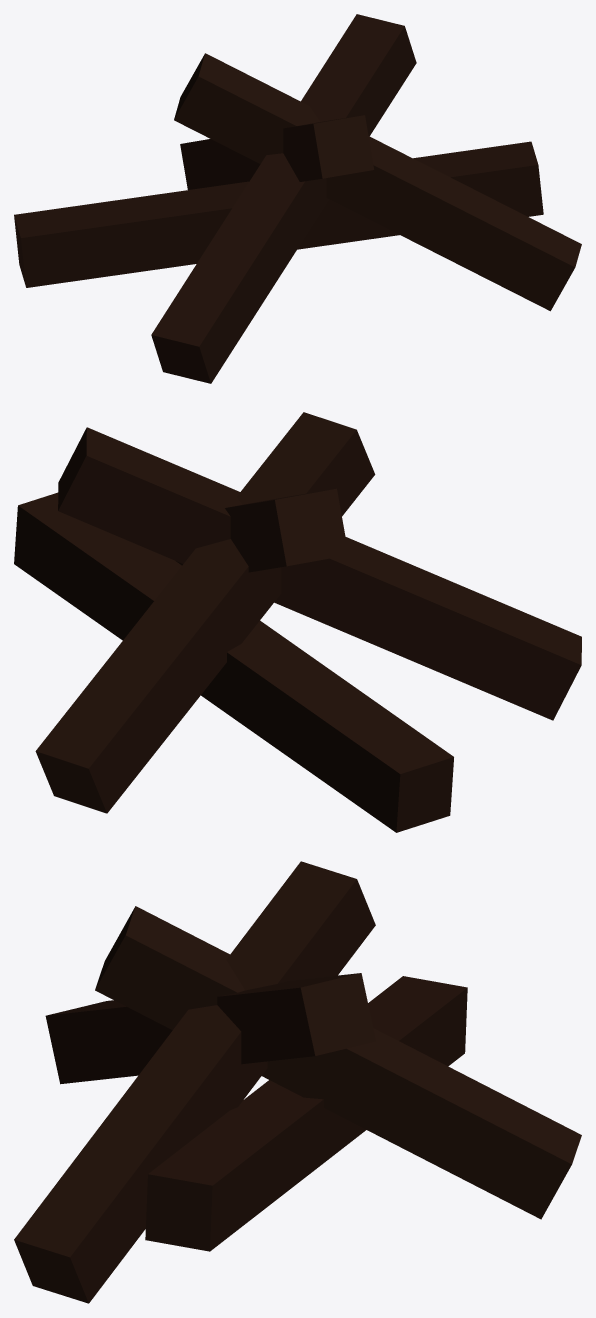
Rendered from campfireLogs.glb.
The picture shows the model from 3 angles, top to bottom: view 1: azimuth 30°, elevation 25°; view 2: azimuth 150°, elevation 25°; view 3: azimuth 270°, elevation 25°; orthographic projection. The views are drawn at different scales.
Visible parts, largest first — view 1: campfireLog01, campfireLog00, campfireLog03, campfireLog02; view 2: campfireLog00, campfireLog03, campfireLog02, campfireLog01; view 3: campfireLog01, campfireLog02, campfireLog03, campfireLog00.
Part boxes in pixels (left/top/right/bottom): campfireLog01: left=174, top=53, right=581, bottom=311; campfireLog00: left=151, top=14, right=416, bottom=383; campfireLog03: left=14, top=141, right=543, bottom=287; campfireLog02: left=180, top=115, right=374, bottom=189; campfireLog00: left=58, top=427, right=581, bottom=720; campfireLog03: left=14, top=492, right=453, bottom=832; campfireLog02: left=35, top=412, right=375, bottom=813; campfireLog01: left=176, top=488, right=348, bottom=572; campfireLog01: left=14, top=861, right=375, bottom=1303; campfireLog02: left=95, top=906, right=581, bottom=1219; campfireLog03: left=145, top=976, right=467, bottom=1251; campfireLog00: left=45, top=973, right=375, bottom=1084.
Size of the model in its own units: 2 by 0.9495 by 1.78.
